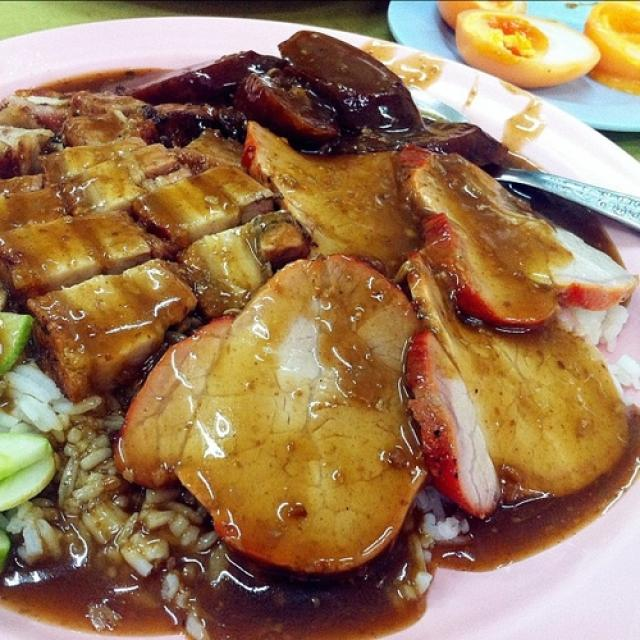猪肉菜式: (11, 23, 626, 616)
